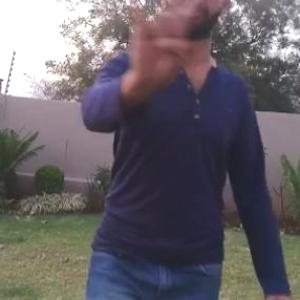takeoff-hand: (125, 0, 212, 81)
